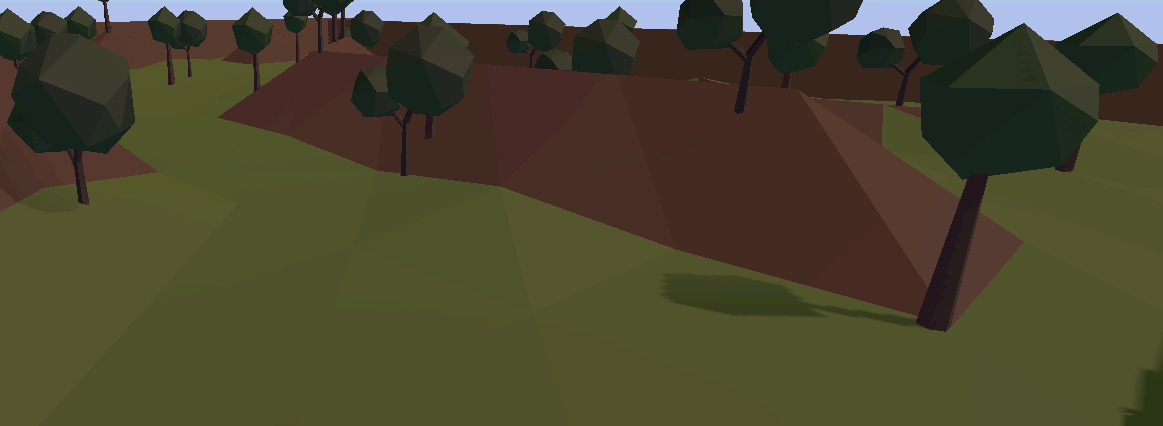tree: (914, 36, 1104, 330), (677, 1, 861, 111), (12, 38, 132, 205), (348, 28, 472, 181), (861, 1, 994, 111), (231, 8, 275, 91), (503, 10, 568, 66), (32, 3, 105, 48), (147, 5, 186, 84), (175, 6, 208, 83), (1, 8, 35, 62)
